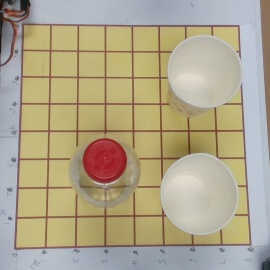bottle: (155, 35, 242, 126), (65, 133, 142, 214)
cup: (153, 151, 239, 240)
